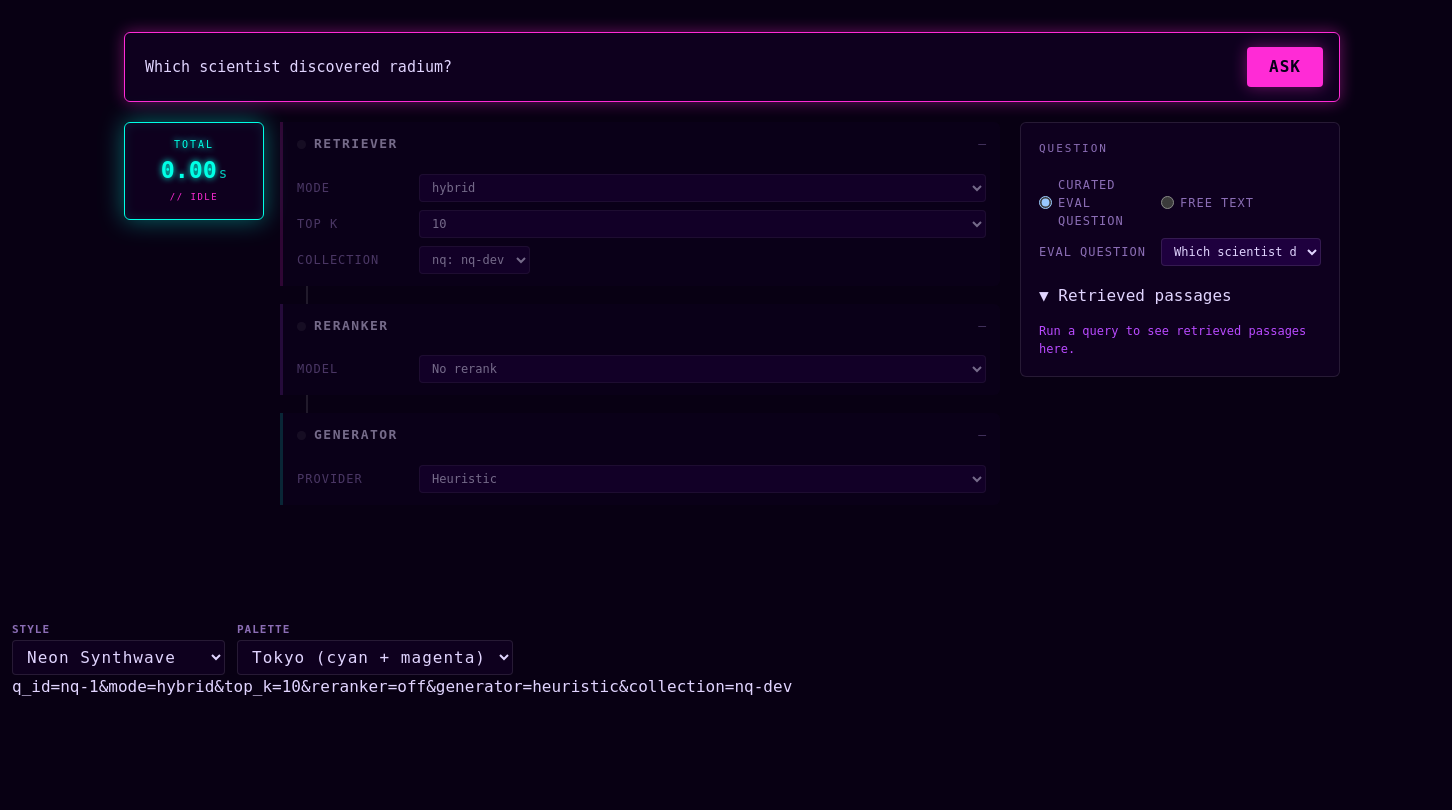
Test: AskPage › renders gold metrics when the active question carries gold_answers
The image size is (1452, 810).
Click the button "Ask": click(1285, 67) [1247,47,1323,87]
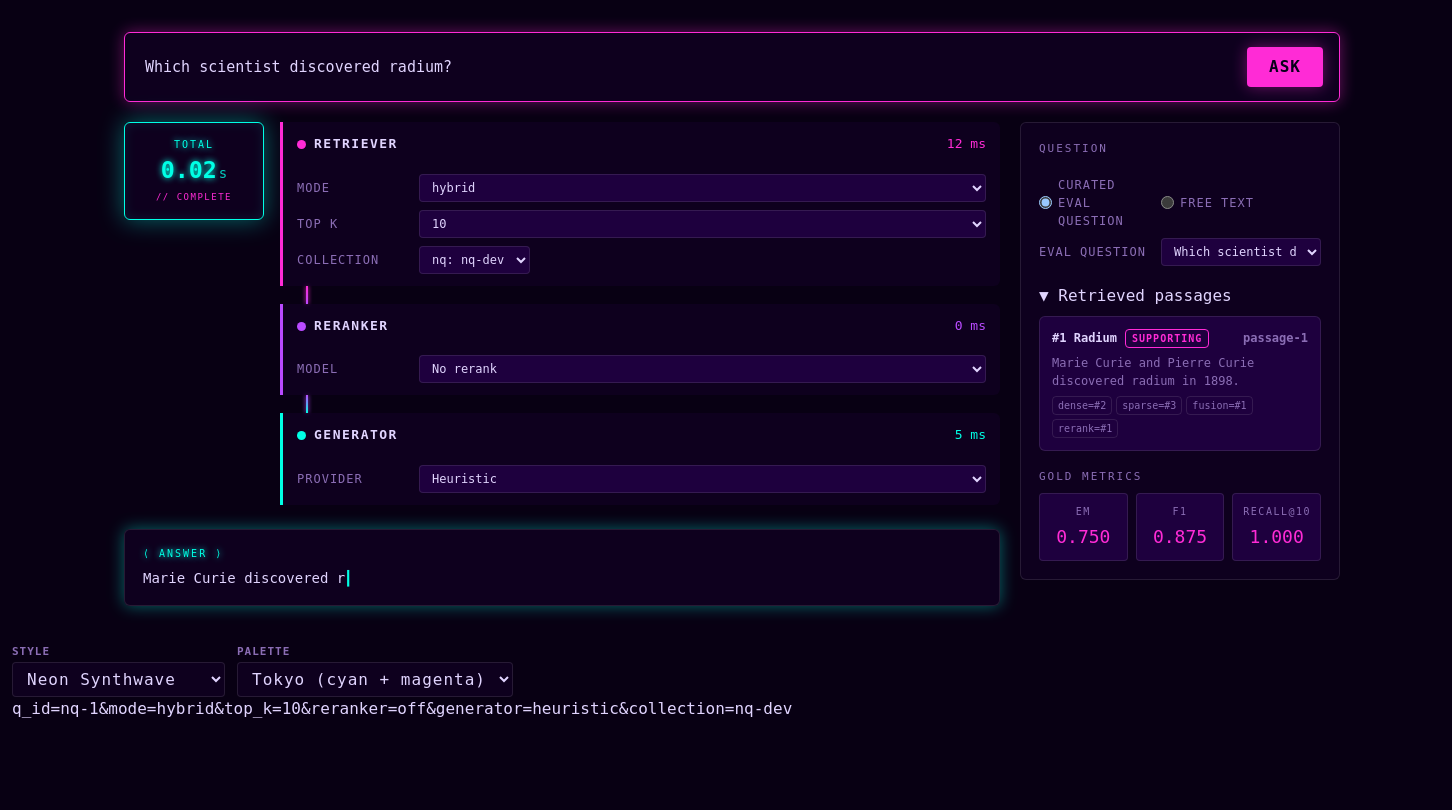
Result: the text "0.750" is shown at [1056,526,1110,547]
Result: the text "0.875" is shown at [1153,526,1207,547]
